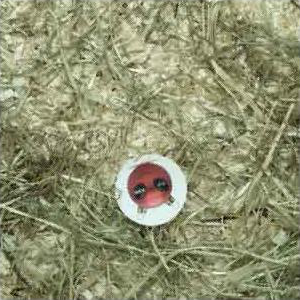badge: (114, 153, 187, 226)
